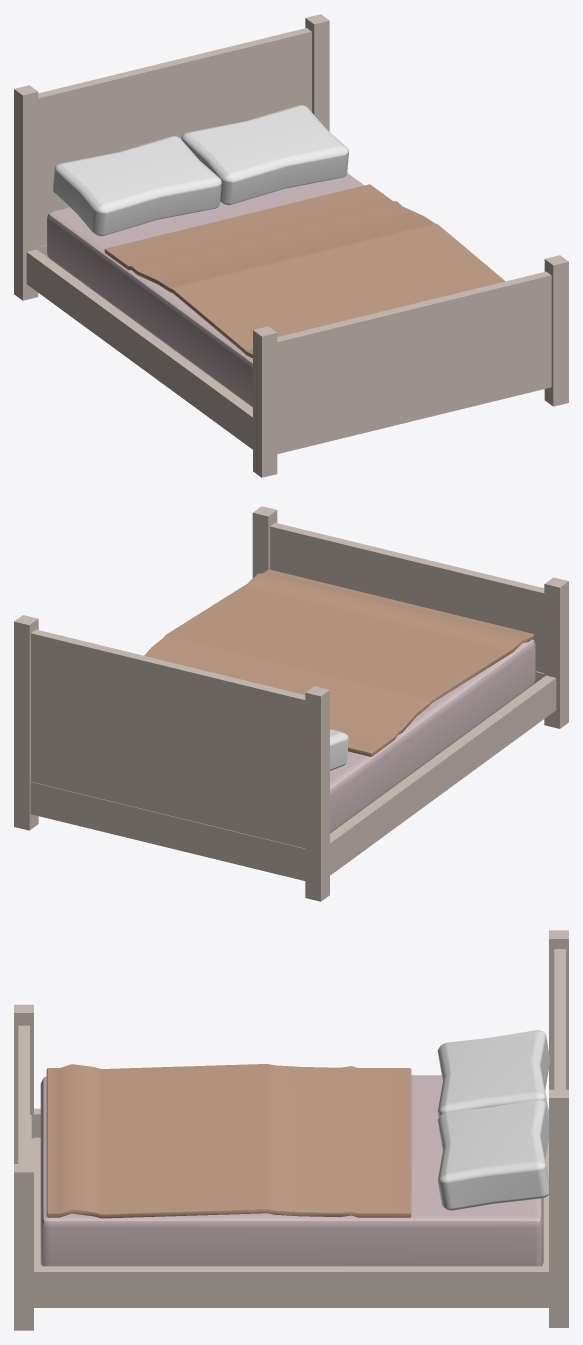
File: colored bed.fbx
3 views of the same model, one above another, from view 1: azimuth 30°, elevation 25°; view 2: azimuth 150°, elevation 25°; view 3: azimuth 270°, elevation 25° (orthographic). The views are drawn at different scales.
Parts seen in each view (by area): view 1: bed_frame1, blanket, pillows, mattress; view 2: bed_frame1, blanket, mattress, pillows; view 3: blanket, bed_frame1, mattress, pillows.
Boxes of the visible parts, x1,y1,x2,y2 form: bed_frame1: [14, 14, 568, 477]; blanket: [104, 184, 505, 358]; pillows: [52, 105, 348, 236]; mattress: [47, 173, 364, 407]; bed_frame1: [14, 506, 568, 901]; blanket: [144, 569, 533, 756]; mattress: [330, 639, 535, 833]; pillows: [330, 729, 348, 770]; blanket: [46, 1064, 411, 1218]; bed_frame1: [14, 930, 568, 1330]; mattress: [40, 1075, 543, 1266]; pillows: [437, 1030, 550, 1210].
Size of the model in its own units: 1.98 by 1.28 by 2.76.
